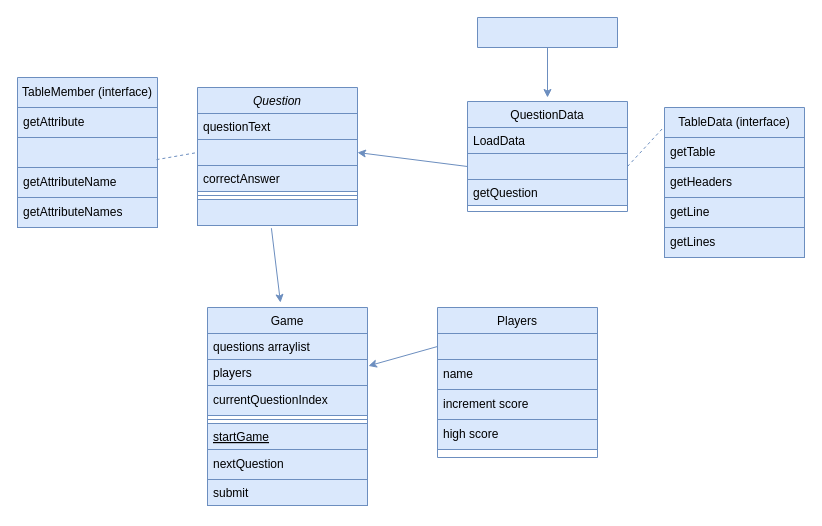
Some shapes in this 822 by 526 pixel diagram are drawn without their labels. Here are the shapes that lost their labels. From the top down, the centre of each, then its label:
At (547,32): "CSV File".
At (87,152): "getAttributes".
At (277,152): "option(s)".
At (547,166): "ReadQuestionFromCSV".
At (277,212): "categroy".
At (517,346): "id".
